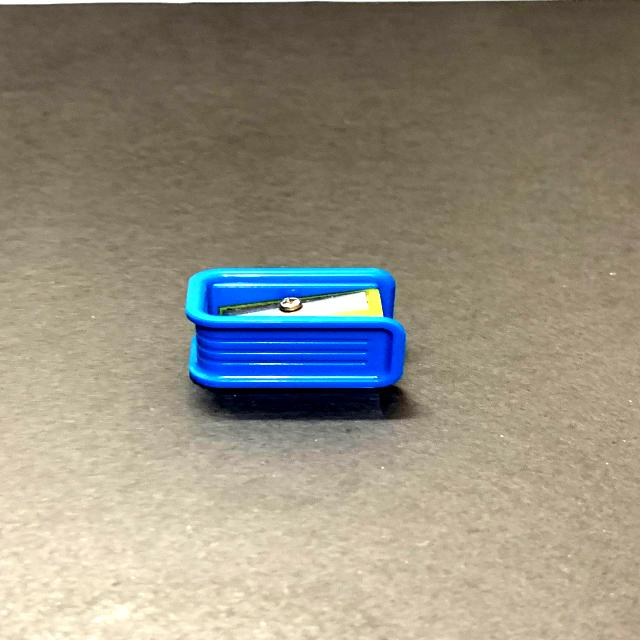Sharpner: (154, 245, 424, 402)
